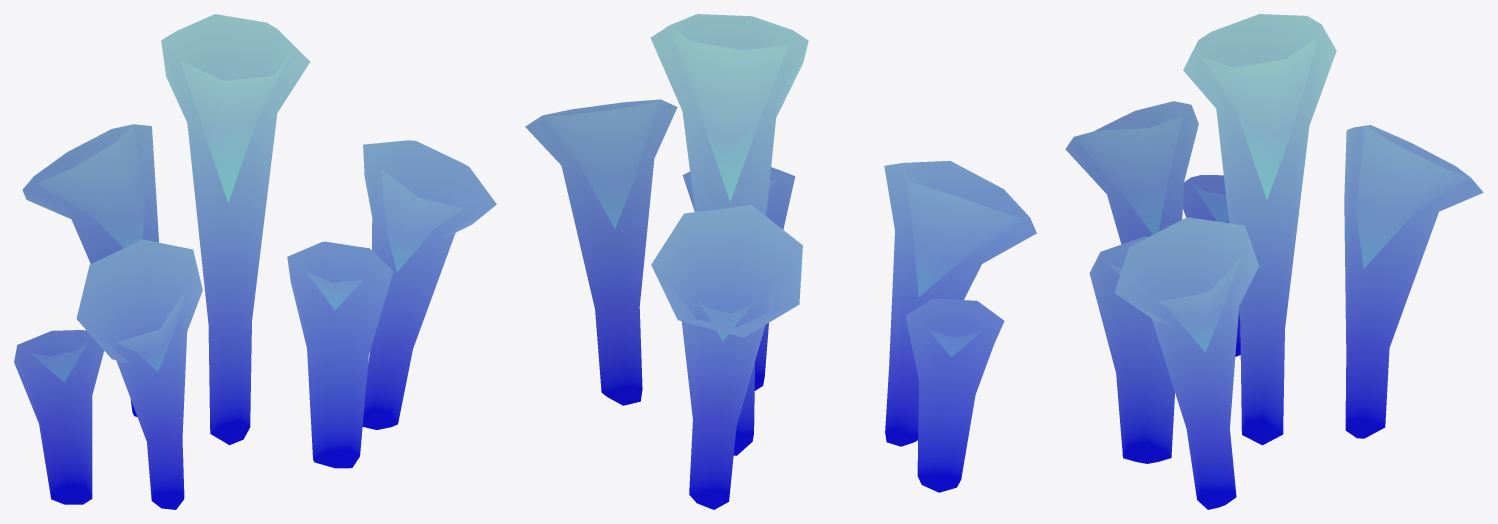
The model's file is SM_Env_Tubes_01.glb.
3 views of the same model, side by side, from view 1: azimuth 30°, elevation 25°; view 2: azimuth 150°, elevation 25°; view 3: azimuth 270°, elevation 25° (orthographic). The views are drawn at different scales.
Parts seen in each view (by area): view 1: SM_Env_Tubes_01_LOD0; view 2: SM_Env_Tubes_01_LOD0; view 3: SM_Env_Tubes_01_LOD0.
Boxes of the visible parts, box(x1,y1,x2,y2) form: SM_Env_Tubes_01_LOD0: box(14, 14, 496, 509); SM_Env_Tubes_01_LOD0: box(525, 14, 1036, 509); SM_Env_Tubes_01_LOD0: box(1065, 14, 1483, 509).
Size of what is drawn, in the model's own units: 1.51 by 1.34 by 1.2.
